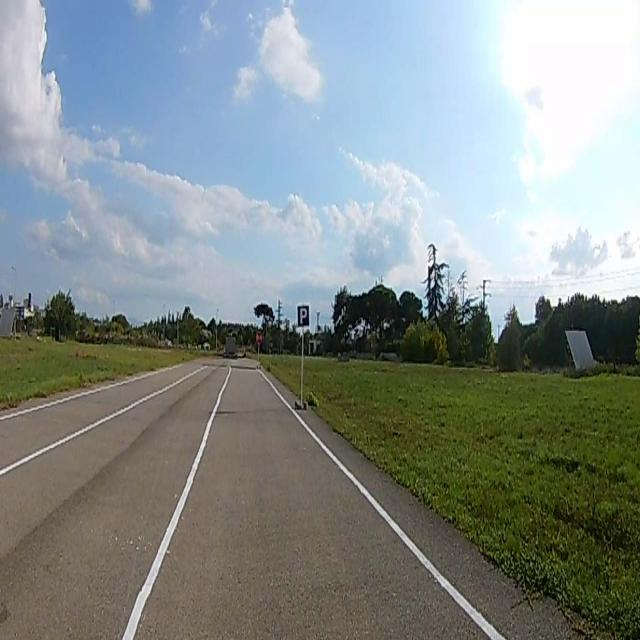park: (297, 306, 309, 326)
